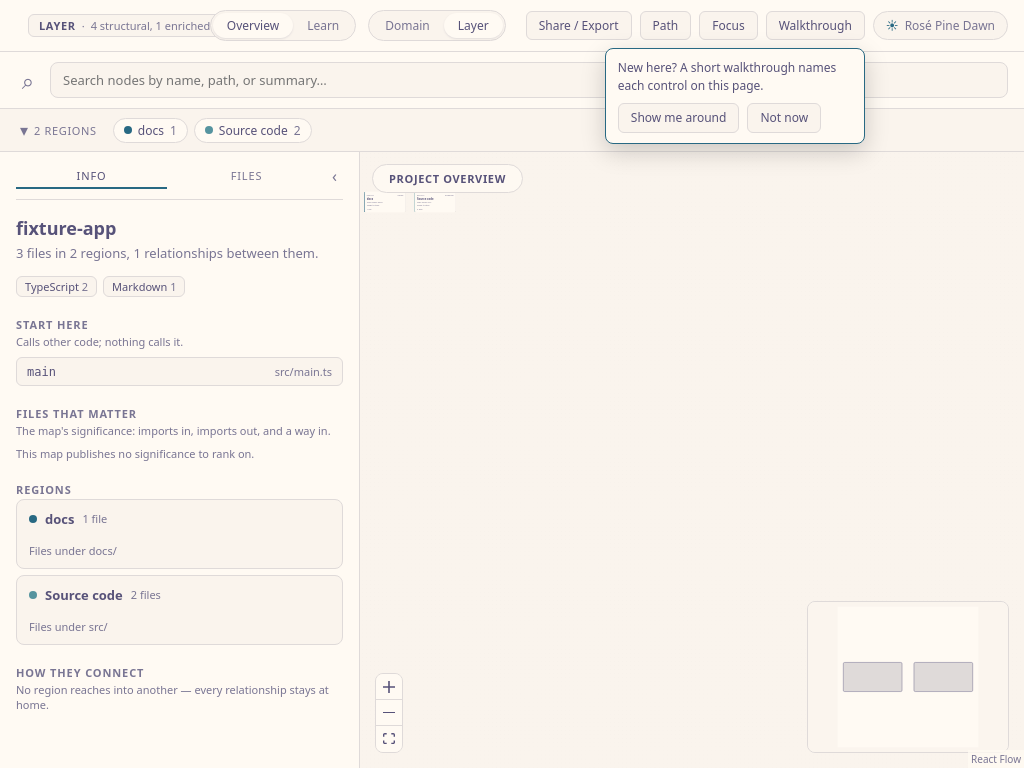
Test case: rendering a map file › draws the region's files once one is opened
Step 1. Click the button "Source code 2" → point(253, 130), box x1=194 y1=118 x2=312 y2=142
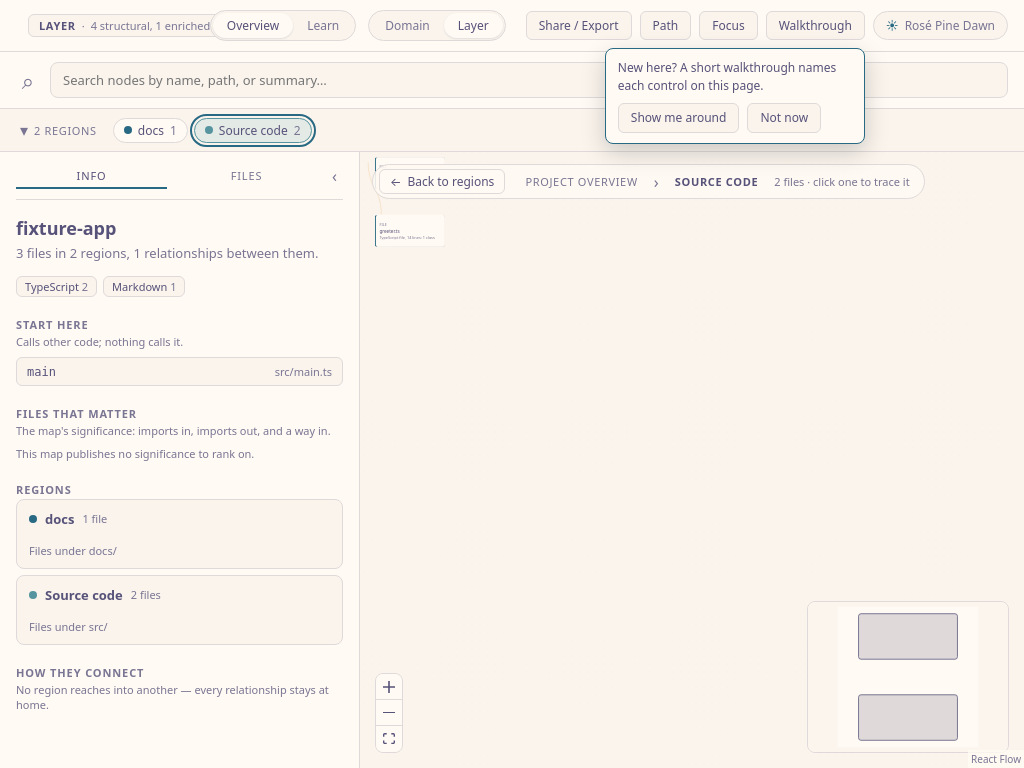
Expected: the text "main.ts" is shown, x1=379 y1=170 x2=395 y2=176
Expected: the text "greeter.ts" is shown, x1=379 y1=228 x2=400 y2=234
